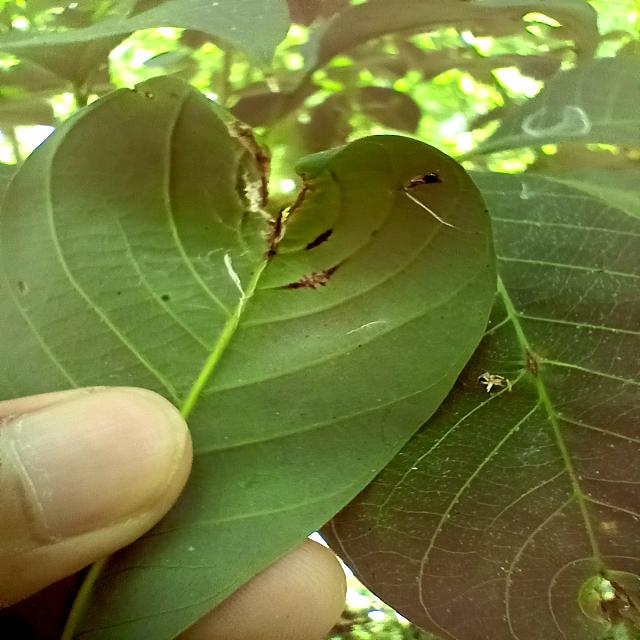Corynespora: (277, 262, 344, 290), (304, 228, 334, 251)
